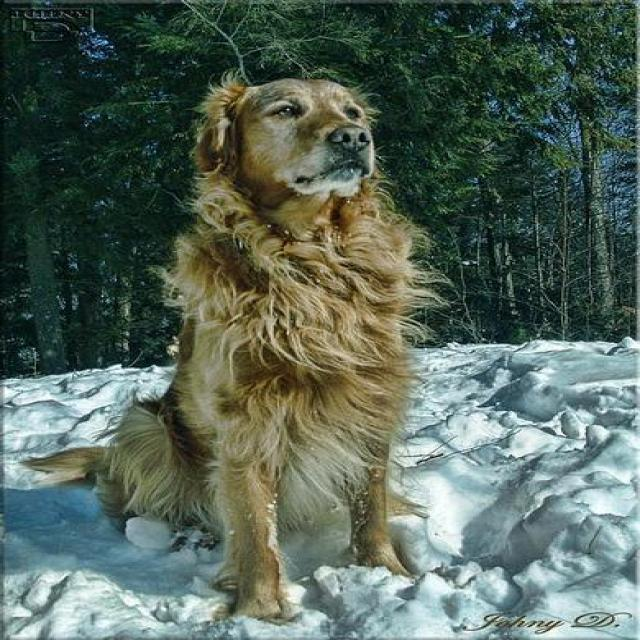sitting: (21, 62, 430, 627)
